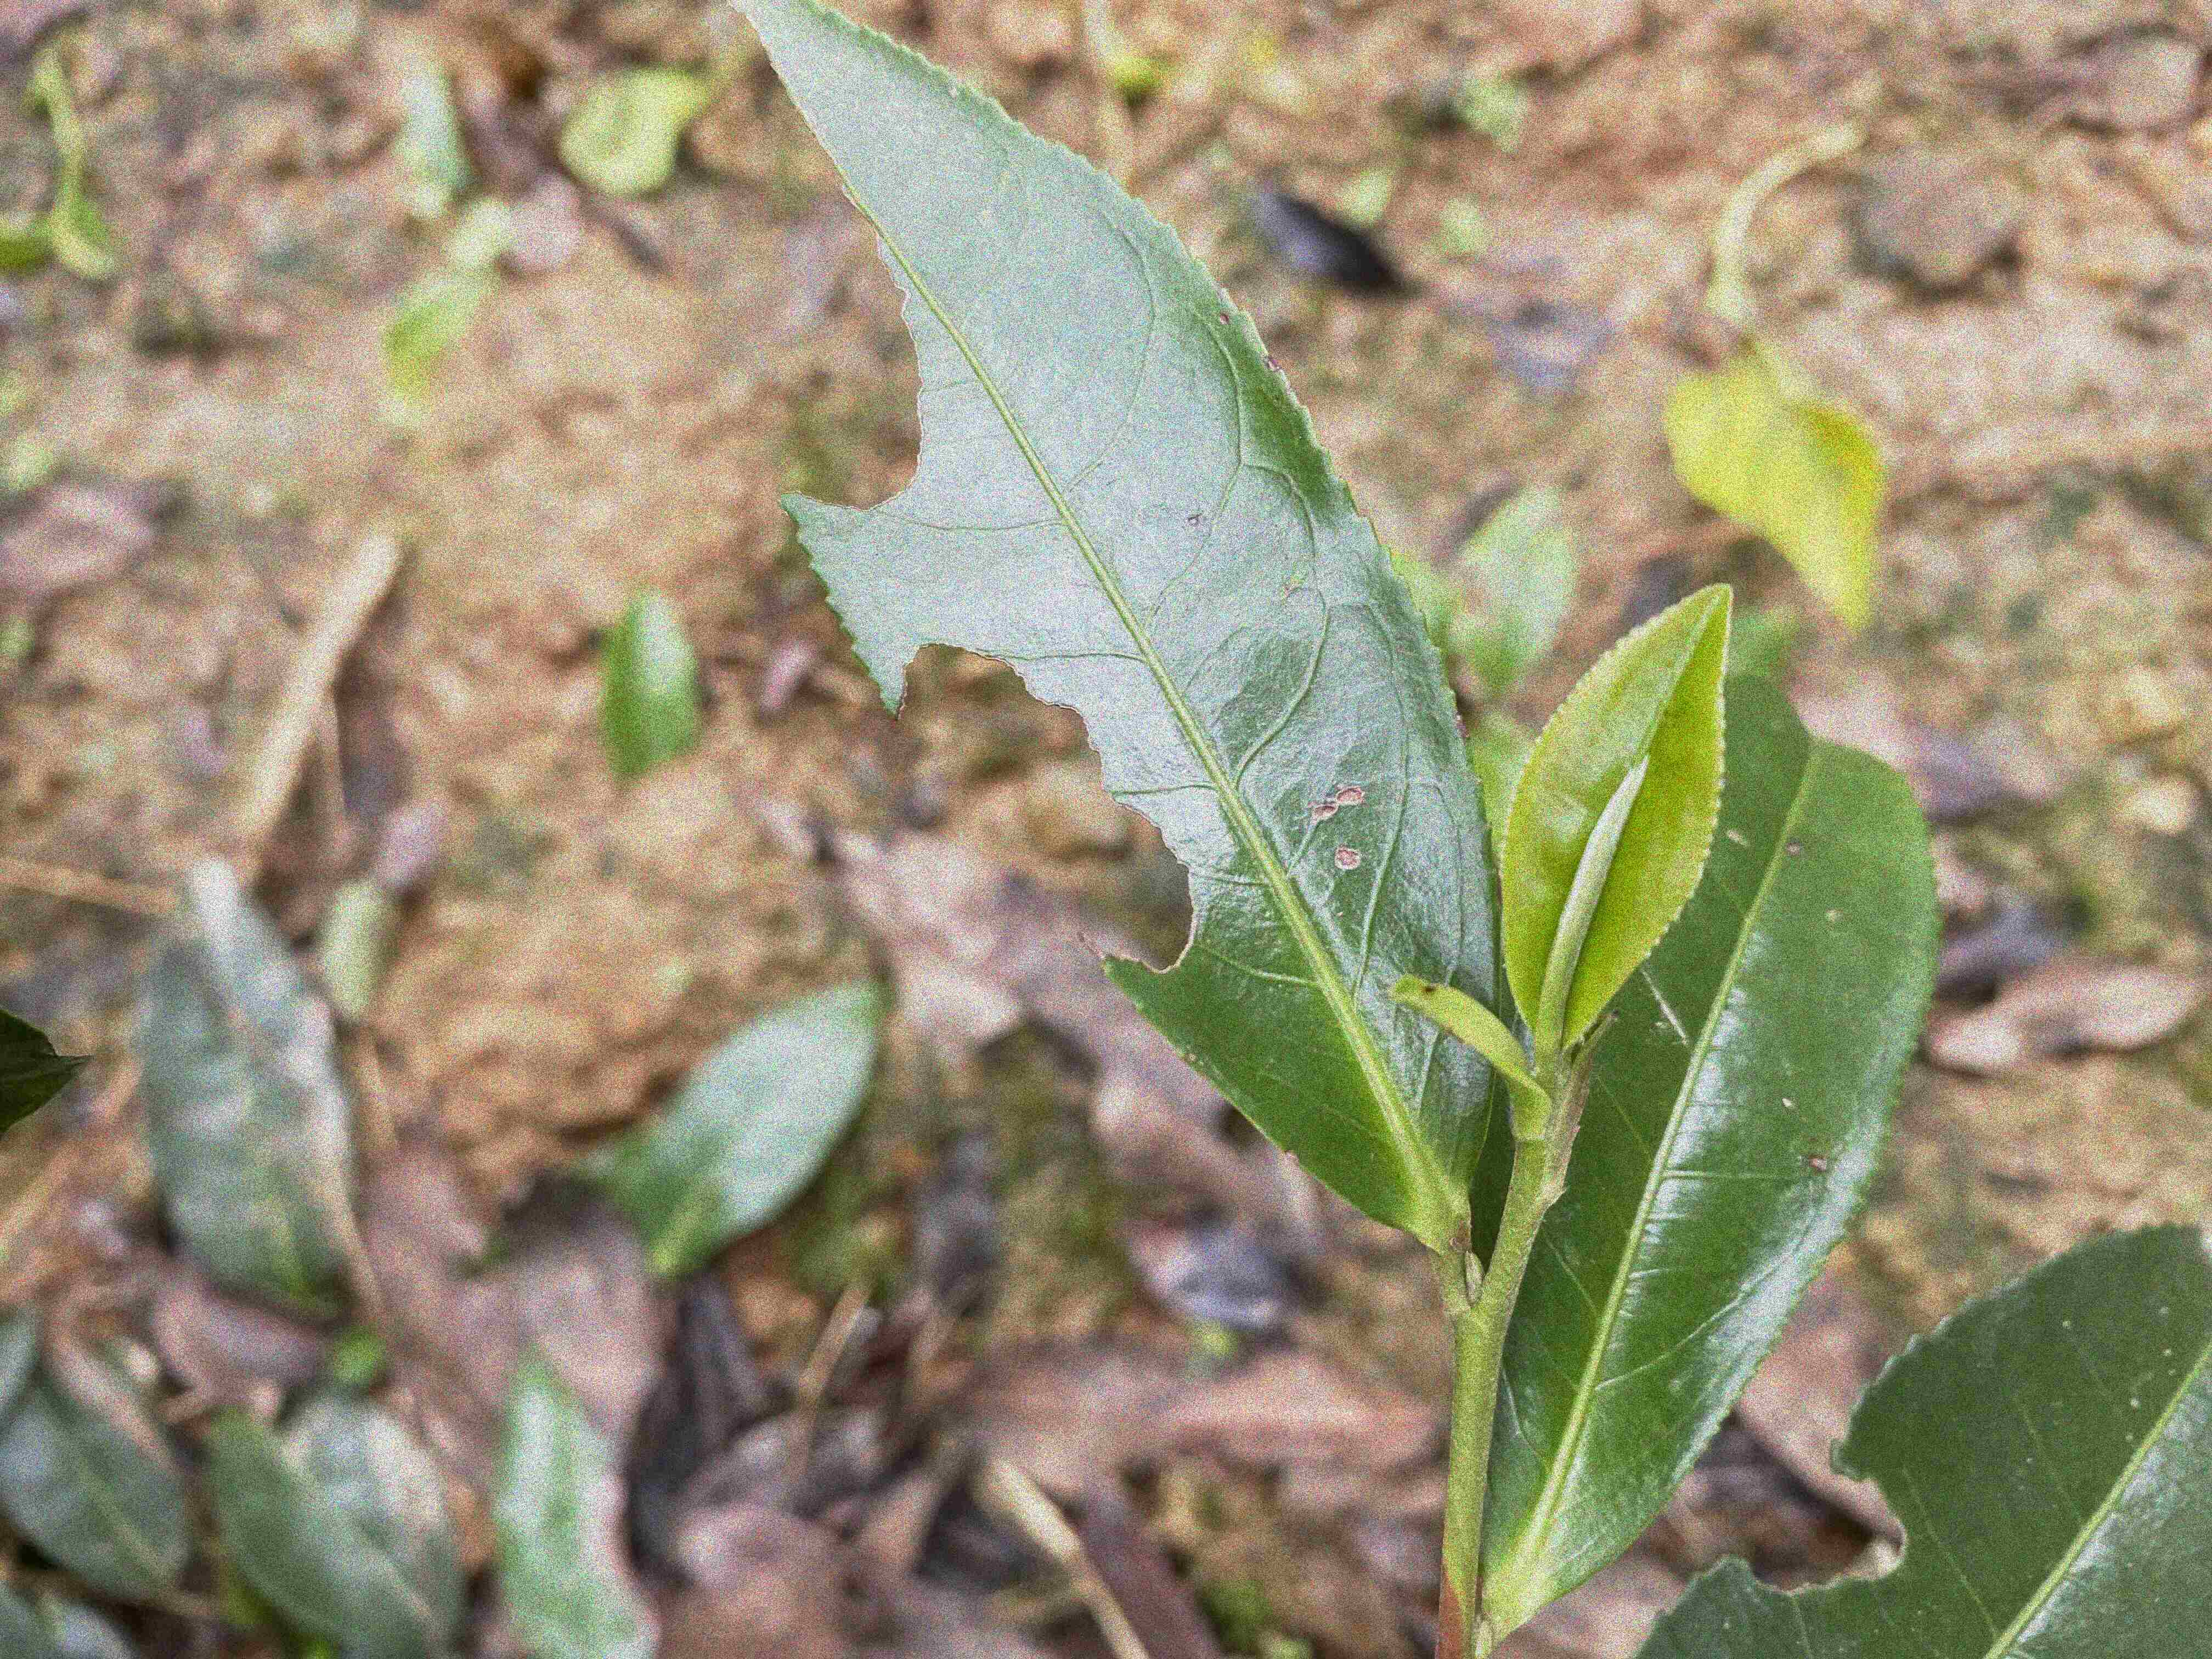chihuo_high: (716, 0, 1503, 1256)
chihuo_low: (1639, 1220, 2212, 1657)
healthy: (1498, 580, 1737, 1049)
tanju_low: (1477, 676, 1942, 1619)
